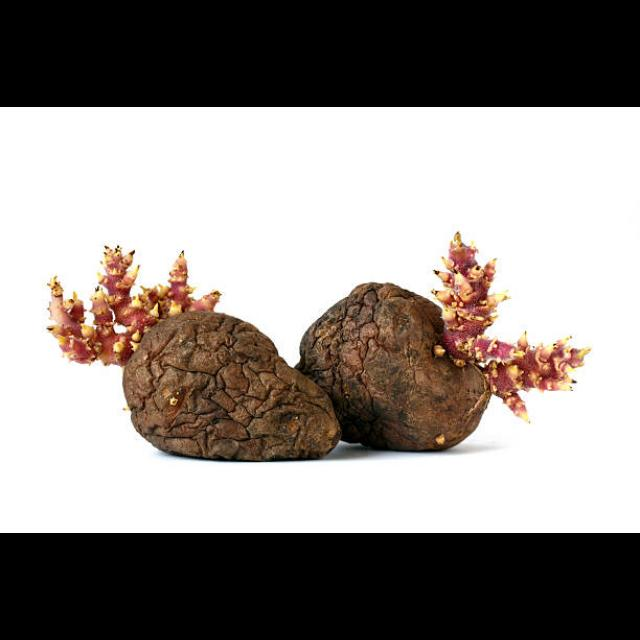Sprouted potato: (294, 226, 606, 462), (31, 238, 326, 468)
